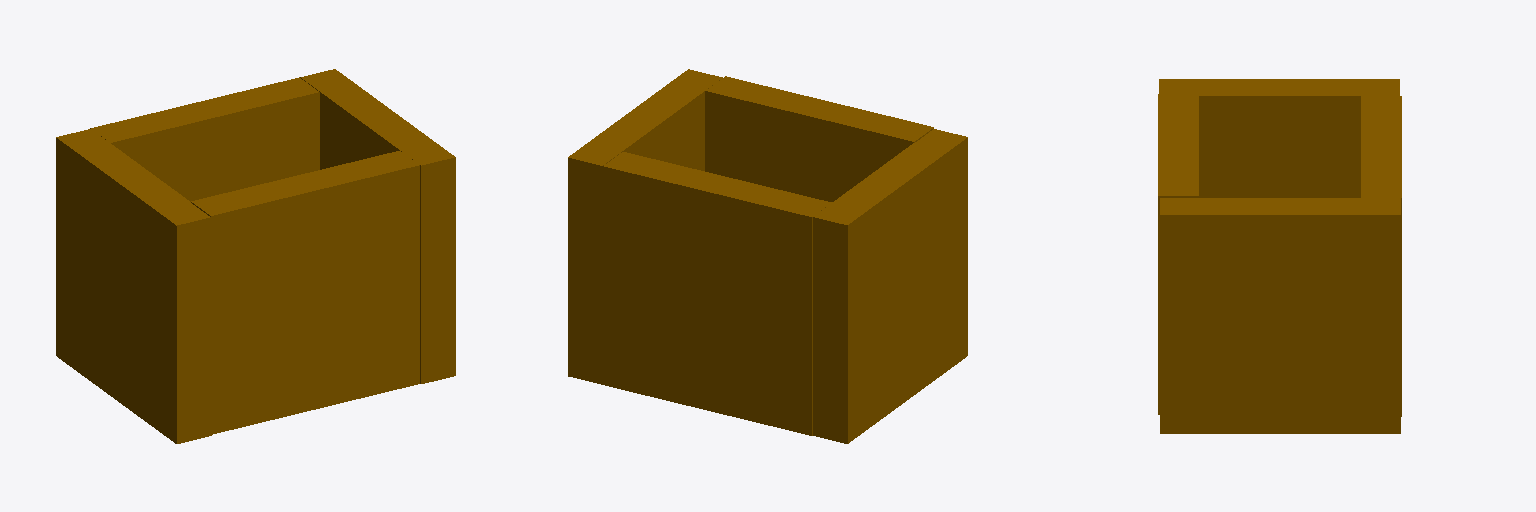
The model's file is skip.obj.
3 views of the same model, side by side, from view 1: azimuth 30°, elevation 25°; view 2: azimuth 150°, elevation 25°; view 3: azimuth 270°, elevation 25° (orthographic).
Visible parts, largest first — view 1: Cube3, Cube1, Cube2, Cube4; view 2: Cube2, Cube1, Cube3, Cube4; view 3: Cube4, Cube1, Cube3, Cube2.
Part boxes in pixels (left/top/right/bottom): Cube3: left=191, top=151, right=419, bottom=434; Cube1: left=56, top=129, right=211, bottom=443; Cube2: left=90, top=77, right=319, bottom=201; Cube4: left=300, top=69, right=455, bottom=383; Cube2: left=603, top=152, right=831, bottom=435; Cube1: left=813, top=129, right=967, bottom=443; Cube3: left=705, top=76, right=933, bottom=201; Cube4: left=568, top=69, right=722, bottom=384; Cube4: left=1160, top=198, right=1400, bottom=433; Cube1: left=1159, top=79, right=1399, bottom=197; Cube3: left=1158, top=94, right=1198, bottom=414; Cube2: left=1361, top=96, right=1401, bottom=416.
Bounding box in the file's own units: 4.01 × 3.02 × 3.02.